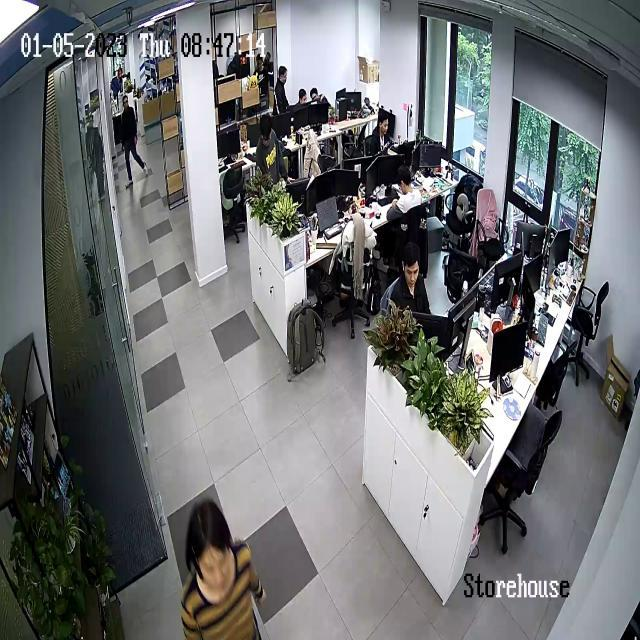person: (180, 499, 266, 639), (390, 241, 432, 307), (120, 92, 145, 180), (255, 112, 284, 183), (393, 163, 426, 215), (364, 107, 397, 157), (275, 65, 295, 115), (310, 84, 328, 107)
